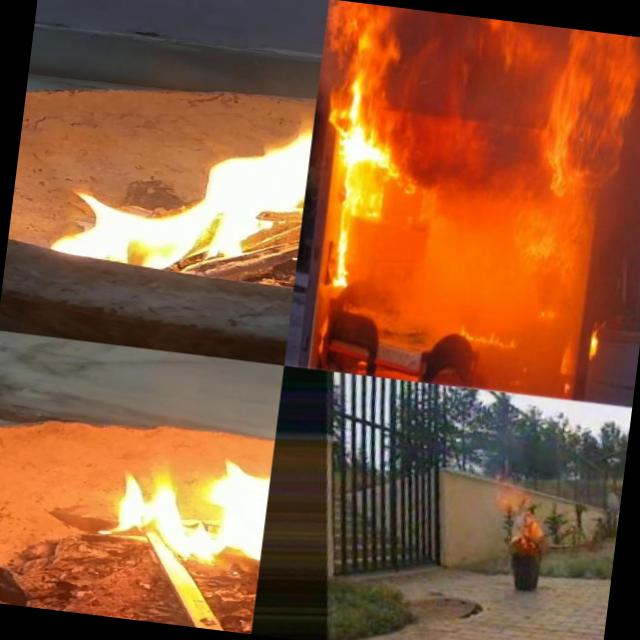fire: (310, 17, 626, 325), (54, 30, 321, 304), (69, 428, 273, 596), (487, 479, 552, 552)
